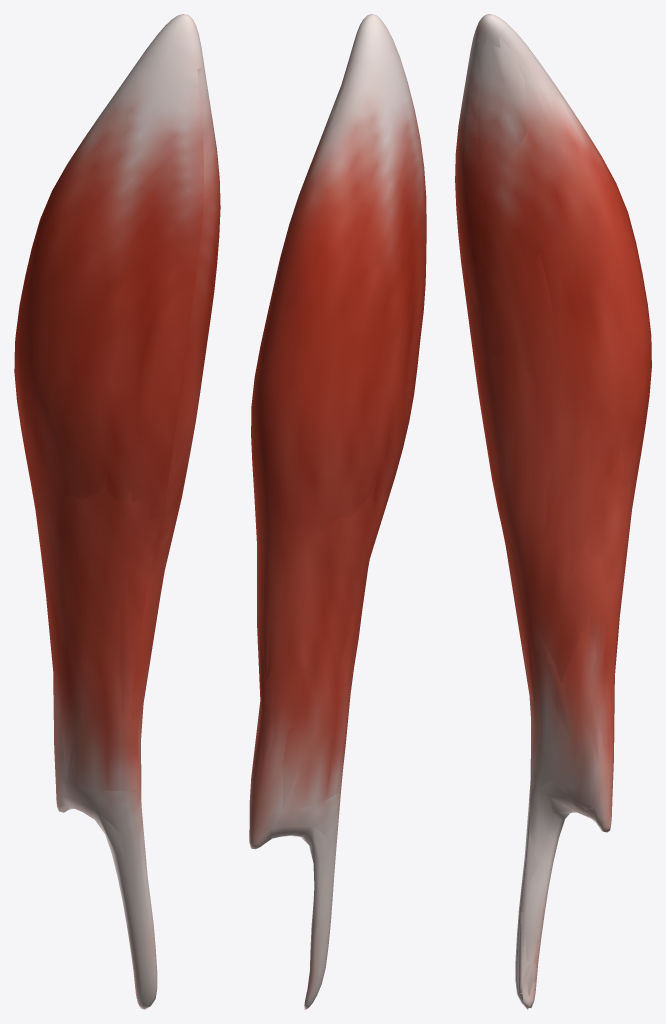
File: R Ulnaris Lateralis.fbx
The picture shows the model from 3 angles, left to right: view 1: azimuth 90°, elevation 25°; view 2: azimuth 150°, elevation 25°; view 3: azimuth 270°, elevation 25°; orthographic projection. The views are drawn at different scales.
Parts seen in each view (by area): view 1: R Ulnaris Lateralis, R Ulnaris Lateralis low; view 2: R Ulnaris Lateralis, R Ulnaris Lateralis low; view 3: R Ulnaris Lateralis, R Ulnaris Lateralis low.
Part boxes in pixels (<box>): R Ulnaris Lateralis: <box>14,14,220,1009</box>; R Ulnaris Lateralis low: <box>31,71,218,997</box>; R Ulnaris Lateralis: <box>249,14,426,1009</box>; R Ulnaris Lateralis low: <box>251,64,425,997</box>; R Ulnaris Lateralis: <box>455,14,651,1009</box>; R Ulnaris Lateralis low: <box>459,35,650,1009</box>.
Bounding box in the file's own units: 5.79 × 45.1 × 8.27.
